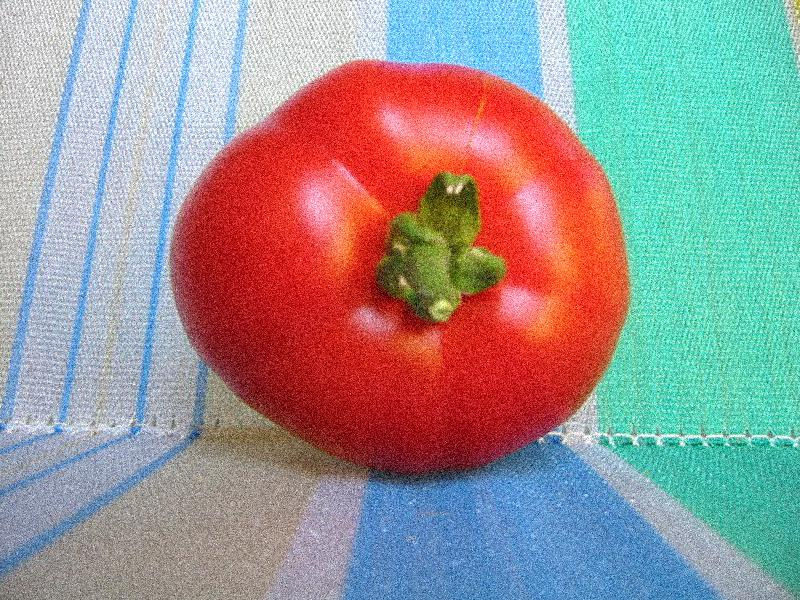Tomato: (173, 59, 629, 475)
